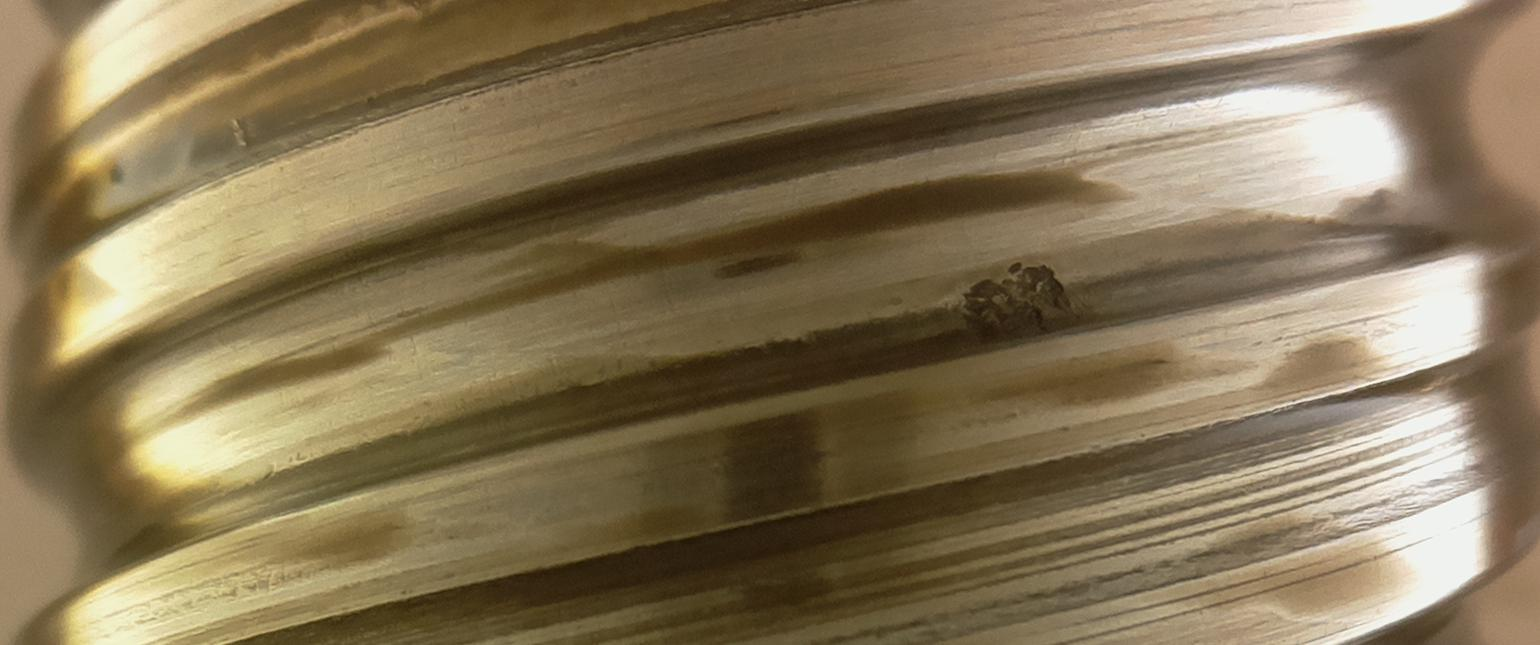pitting: (961, 263, 1080, 343)
